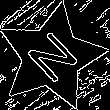N_SE: (19, 25, 84, 89)
